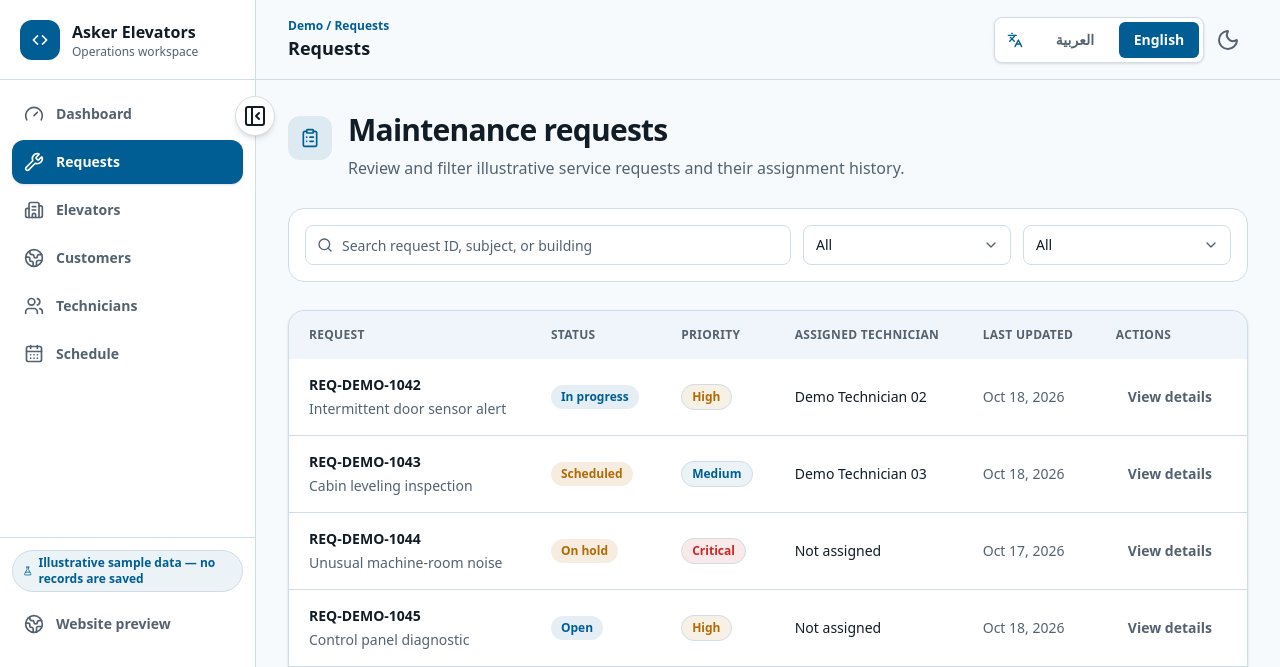
Scenario: interactive frontend preview › filters request data and exposes a recoverable empty state
The width and height of the screenshot is (1280, 667).
Type "record-that-does-not-exist" into the field with placeholder "Search request ID, subject, or building" at x=548, y=245, box top-left (305, 225), bottom-right (791, 265)
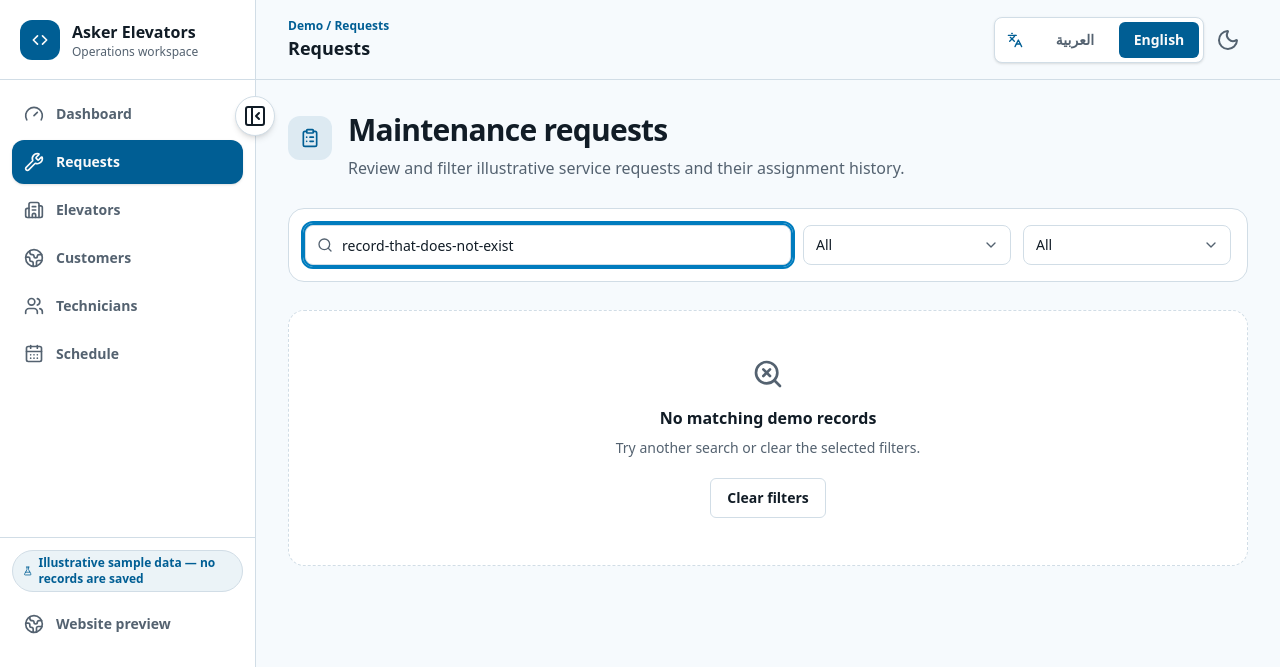
Result: the heading "No matching demo records" is shown at top-left (660, 407), bottom-right (876, 429)
Click the button "Clear filters" at x=768, y=498, box top-left (710, 478), bottom-right (826, 518)
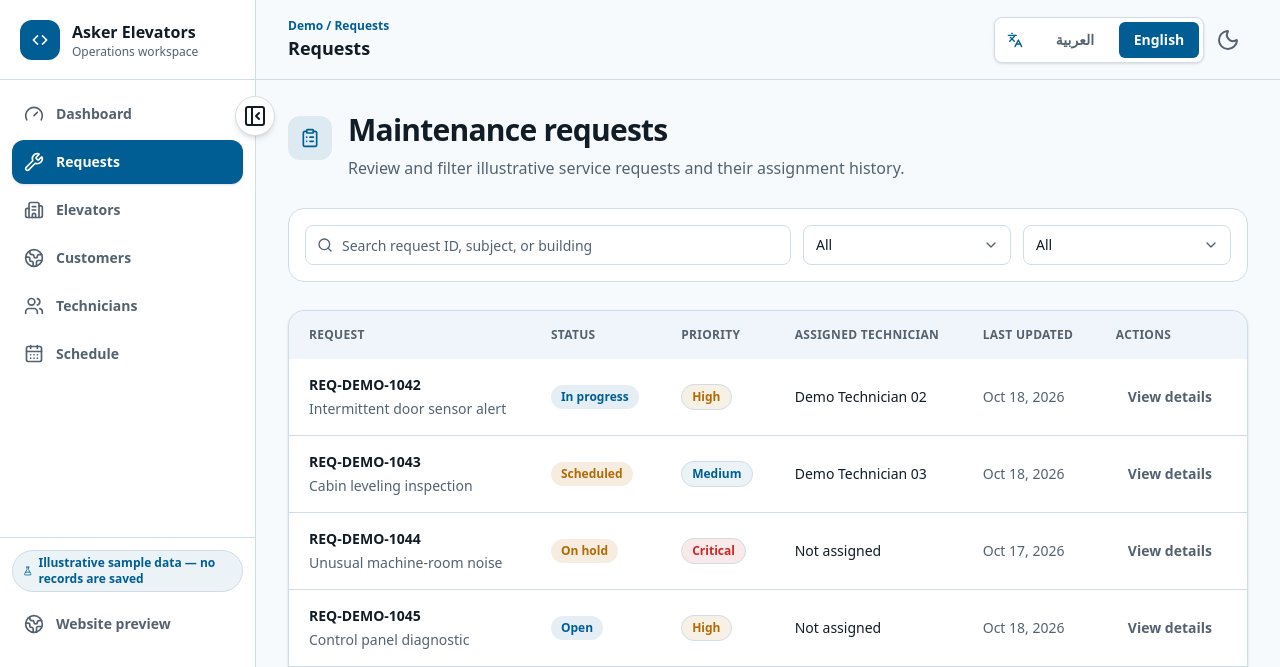
Result: the heading "No matching demo records" is gone
Result: the text "REQ-DEMO-1042" is shown at top-left (309, 375), bottom-right (421, 394)
